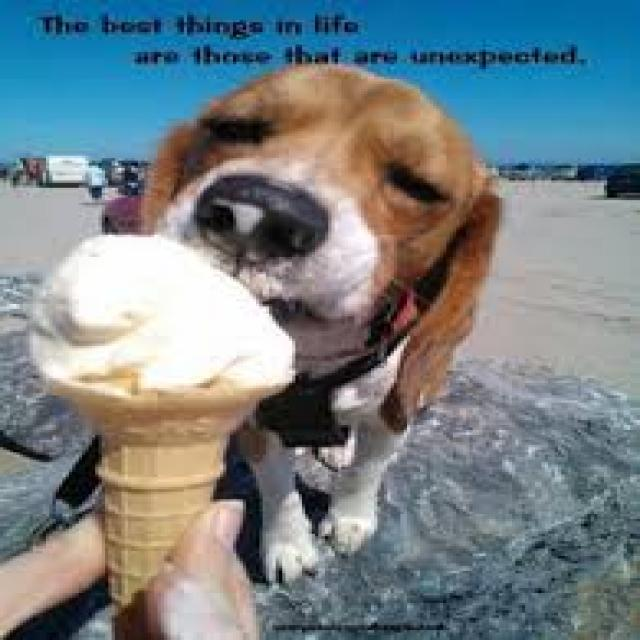Dog: (143, 59, 532, 362)
